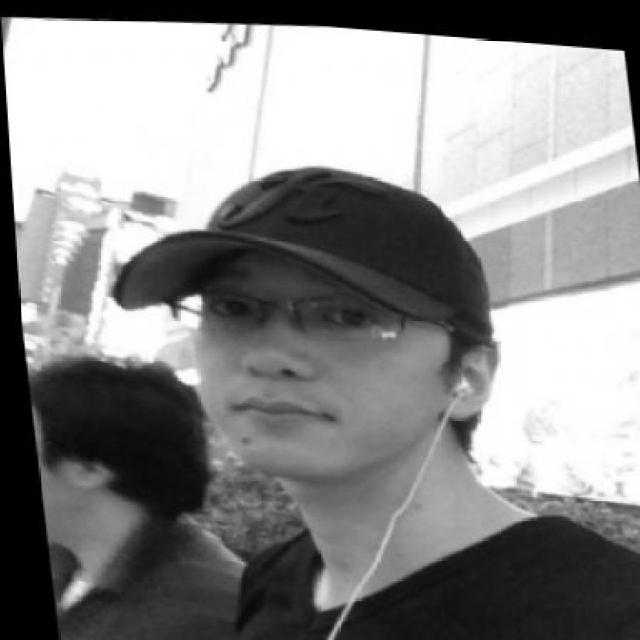hat: (78, 133, 496, 364)
